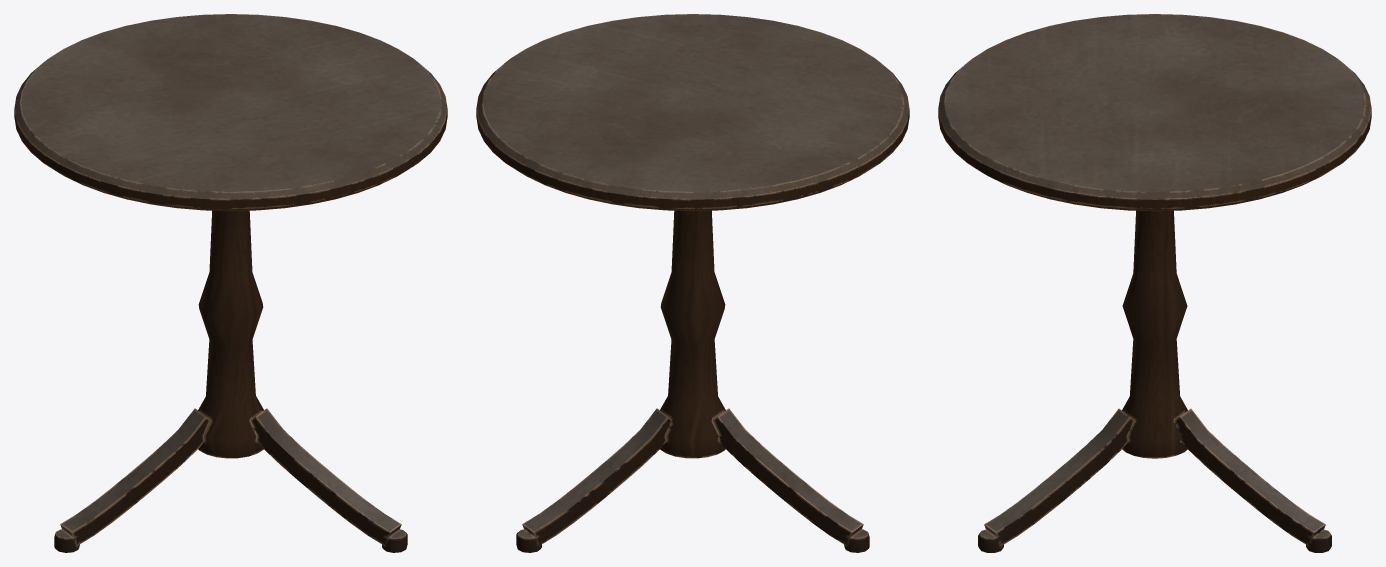
Rendered from side_table.glb.
The picture shows the model from 3 angles, left to right: view 1: azimuth 30°, elevation 25°; view 2: azimuth 150°, elevation 25°; view 3: azimuth 270°, elevation 25°; orthographic projection.
Visible parts, largest first — view 1: side_table; view 2: side_table; view 3: side_table.
Part boxes in pixels (bbox=[...]): side_table: bbox=[14, 14, 447, 552]; side_table: bbox=[476, 14, 909, 552]; side_table: bbox=[938, 14, 1371, 552].
Bounding box in the file's own units: 0.6 × 0.62 × 0.6.
Materials: 1 (1 with a texture image).
